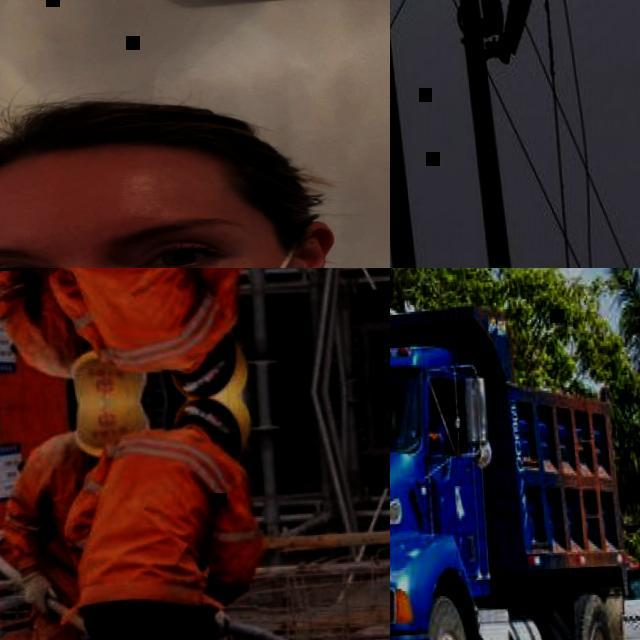helmet: (167, 394, 255, 454), (69, 396, 154, 456), (65, 350, 147, 404), (169, 350, 252, 398)
vest: (72, 426, 246, 610), (69, 268, 228, 371), (19, 437, 104, 598), (14, 268, 90, 371)
